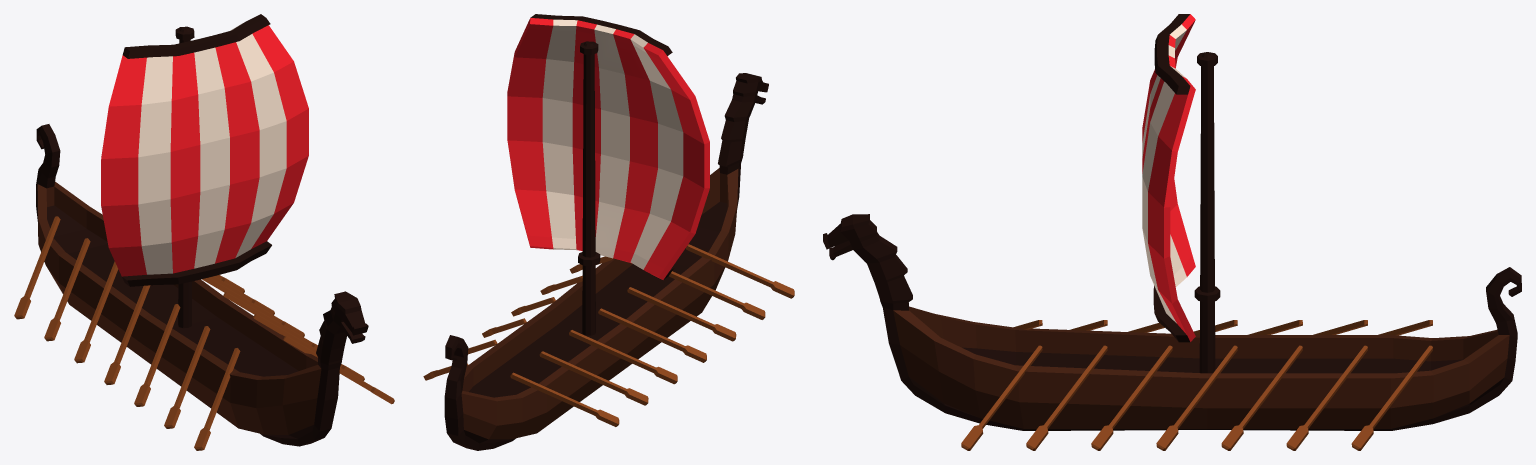
The model's file is viking.glb.
3 views of the same model, side by side, from view 1: azimuth 30°, elevation 25°; view 2: azimuth 150°, elevation 25°; view 3: azimuth 270°, elevation 25° (orthographic). The views are drawn at different scales.
Visible parts, largest first — view 1: viking; view 2: viking; view 3: viking.
Boxes of the visible parts, x1,y1,x2,y2 form: viking: [14, 14, 394, 450]; viking: [423, 14, 794, 450]; viking: [823, 14, 1521, 450].
Size of the model in its own units: 4.48 by 7.17 by 12.
1 material, 1 textured.
